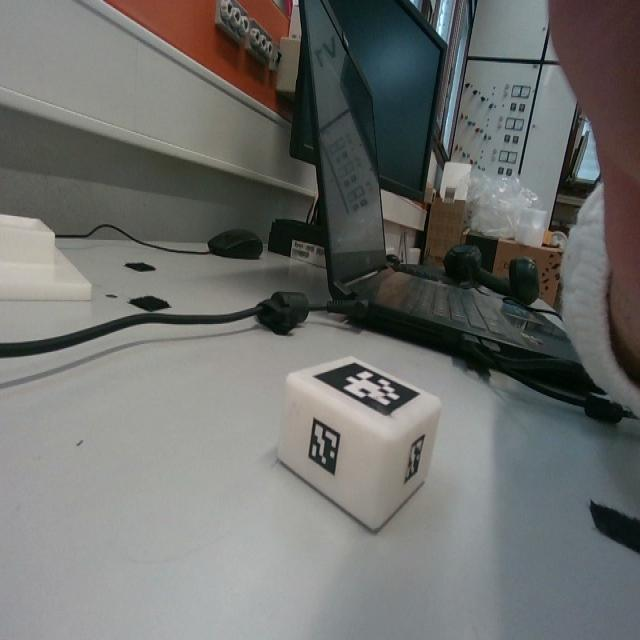Cube: (280, 354, 440, 534)
